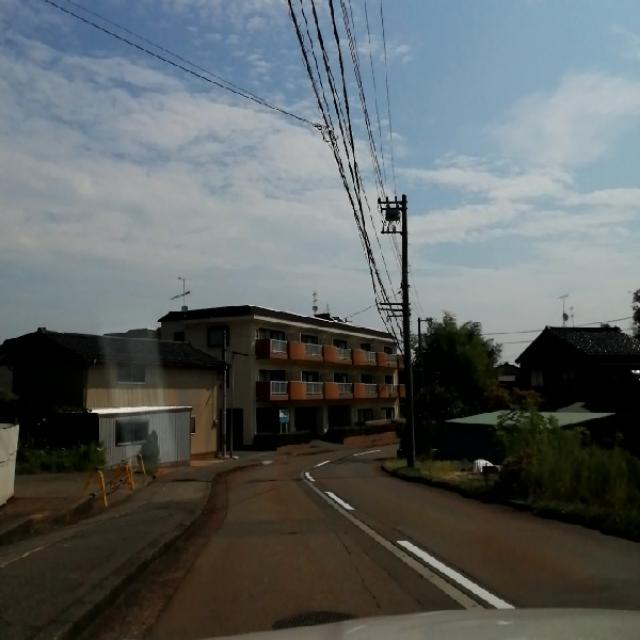pothole: (308, 518, 413, 632), (111, 506, 183, 639)
